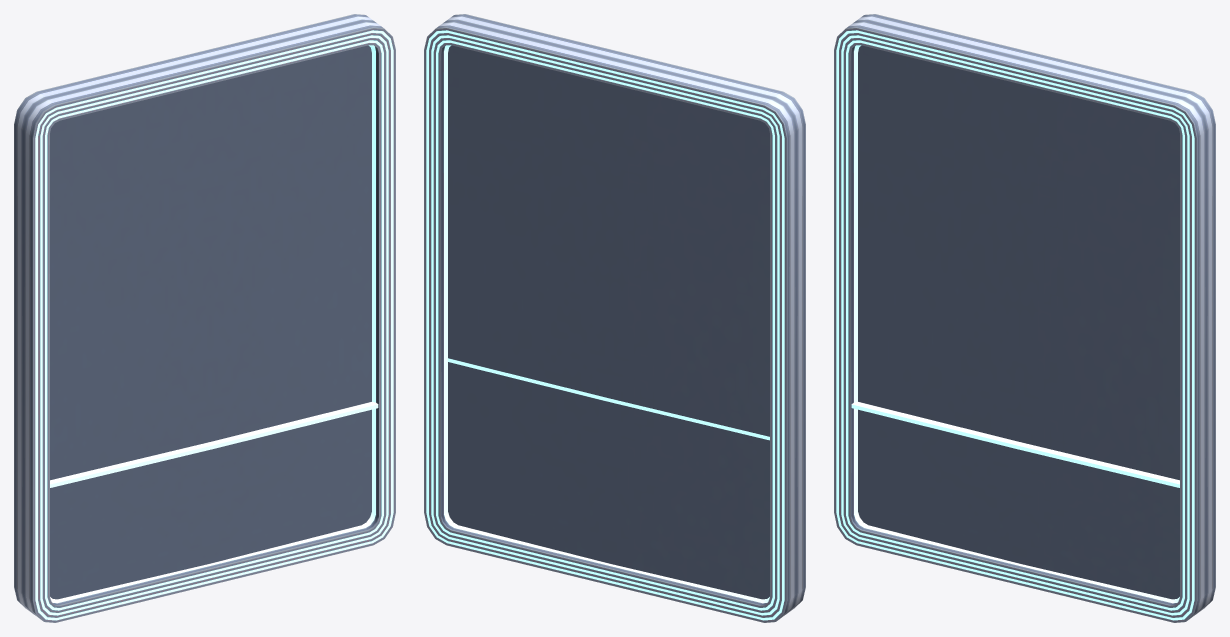
The model's file is obj_estates.gltf.
The picture shows the model from 3 angles, left to right: view 1: azimuth 30°, elevation 25°; view 2: azimuth 150°, elevation 25°; view 3: azimuth 330°, elevation 25°; orthographic projection.
Visible parts, largest first — view 1: obj_estates; view 2: obj_estates; view 3: obj_estates.
Part boxes in pixels (bbox=[...]): obj_estates: bbox=[14, 14, 395, 622]; obj_estates: bbox=[424, 14, 805, 622]; obj_estates: bbox=[834, 14, 1215, 622].
Size of what is drawn, in the model's own units: 2.07 by 2.81 by 0.1887.
2 materials, 1 textured.
